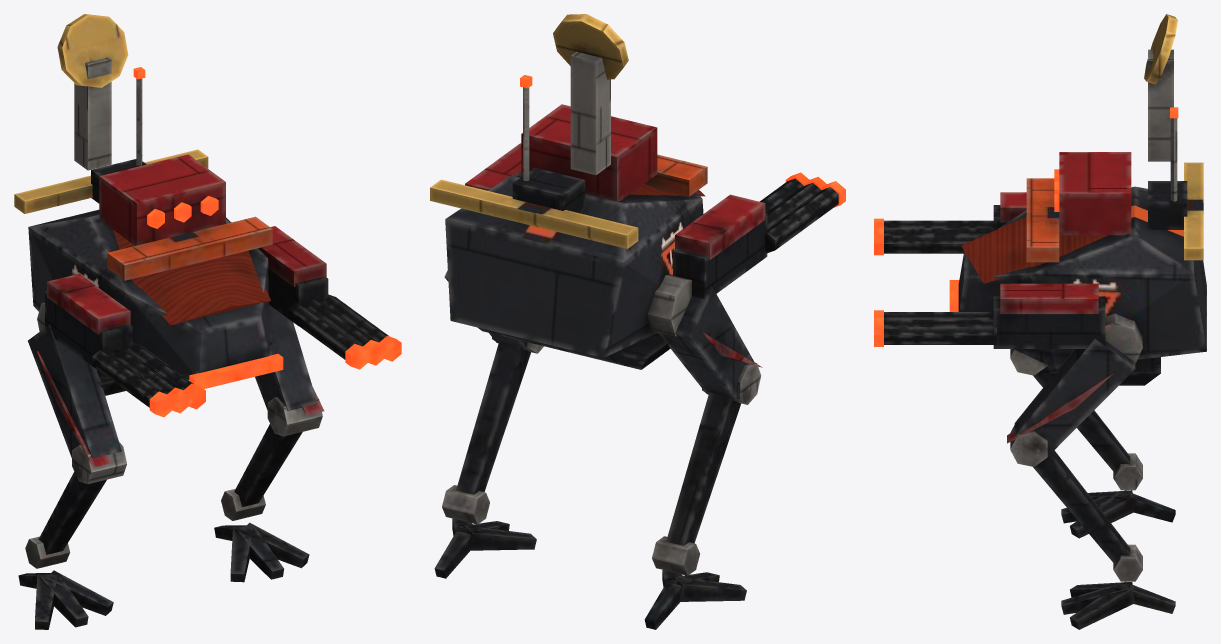
Rendered from u_ranger3_e.glb.
3 renders of one model, left to right at view 1: azimuth 30°, elevation 25°; view 2: azimuth 150°, elevation 25°; view 3: azimuth 270°, elevation 25°, orthographic. The views are drawn at different scales.
Parts seen in each view (by area): view 1: u_ranger3_e; view 2: u_ranger3_e; view 3: u_ranger3_e.
Part boxes in pixels (<box>): u_ranger3_e: <box>14,14,401,629</box>; u_ranger3_e: <box>430,14,845,629</box>; u_ranger3_e: <box>874,14,1206,629</box>.
Size of the model in its own units: 1.09 by 2.11 by 1.19.
Materials: 1 (1 with a texture image).
